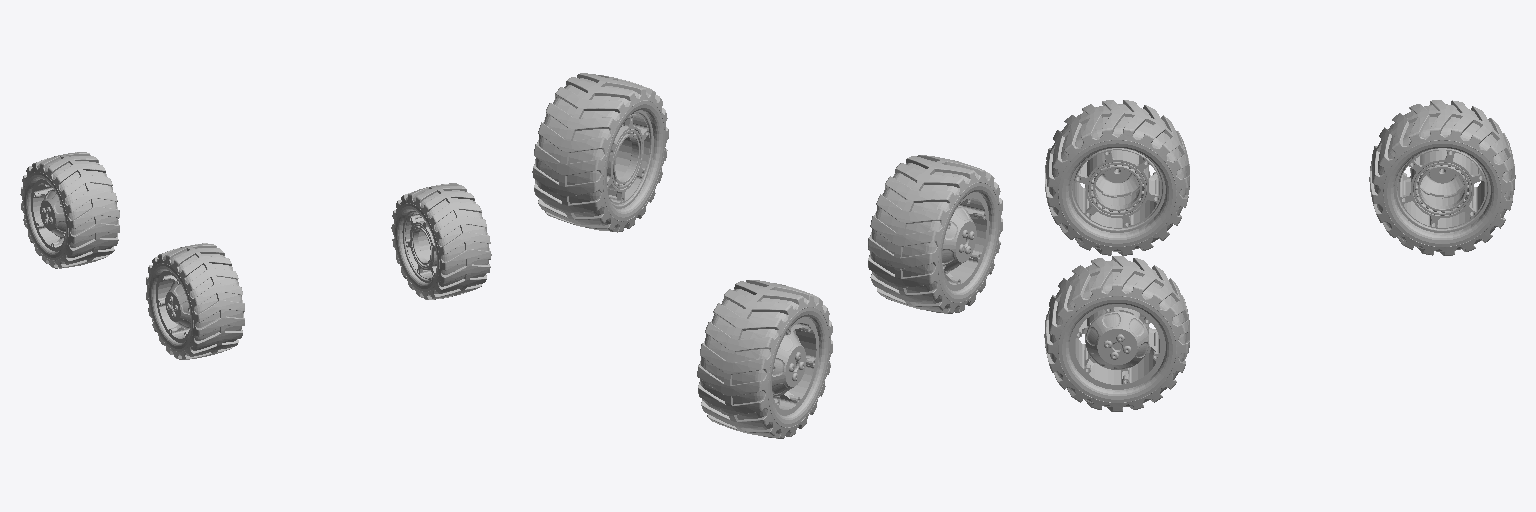
The robot description file, URDF, robot "leo_description":
<?xml version="1.0" encoding="utf-8"?>
<!-- This URDF was automatically created by SolidWorks to URDF Exporter! Originally created by [author] ([email redacted]) 
     Commit Version: 1.5.0-0-g9aa0fdb  Build Version: 1.5.7004.21443
     For more information, please see http://wiki.ros.org/sw_urdf_exporter -->
<robot
  name="leo_description">
  <link
    name="base_link">
    <inertial>
      <origin
        xyz="-0.00722738025166191 -0.0157342555876152 -0.0514386362523208"
        rpy="0 0 0" />
      <mass
        value="1.18333842438659" />
      <inertia
        ixx="0.00220253251903183"
        ixy="-3.11789791908521E-06"
        ixz="1.84372634491565E-06"
        iyy="0.00186758959999937"
        iyz="1.31248202136285E-05"
        izz="0.00326780636889239" />
    </inertial>
    <visual>
      <origin
        xyz="0 0 0"
        rpy="0 0 0" />
      <geometry>
        <mesh
          filename="package://leo_description/meshes/base_link.STL" />
      </geometry>
      <material
        name="base">
        <color
          rgba="0.752941176470588 0.752941176470588 0.752941176470588 1" />
      </material>
    </visual>
    <collision>
      <origin
        xyz="0 0 0"
        rpy="0 0 0" />
      <geometry>
        <mesh
          filename="package://leo_description/meshes/base_link.STL" />
      </geometry>
    </collision>
  </link>
  <link
    name="wheel_FL_link">
    <inertial>
      <origin
        xyz="-4.43698912840074E-06 -4.6985892357132E-06 0.00391651753147765"
        rpy="0 0 0" />
      <mass
        value="0.162812028045966" />
      <inertia
        ixx="0.00024573710371291"
        ixy="4.33843425943982E-09"
        ixz="5.46698222888878E-11"
        iyy="0.000245736463236059"
        iyz="2.76826955254868E-09"
        izz="0.000387997815645929" />
    </inertial>
    <visual>
      <origin
        xyz="0 0 0"
        rpy="0 0 0" />
      <geometry>
        <mesh
          filename="package://leo_description/meshes/wheel_FL_link.STL" />
      </geometry>
      <material
        name="wheel">
        <color
          rgba="0.752941176470588 0.752941176470588 0.752941176470588 1" />
      </material>
    </visual>
    <collision>
      <origin
        xyz="0 0 0"
        rpy="0 0 0" />
      <geometry>
        <mesh
          filename="package://leo_description/meshes/wheel_FL_link.STL" />
      </geometry>
    </collision>
  </link>
  <joint
    name="wheel_FL_joint"
    type="continuous">
    <origin
      xyz="-0.16833 0.14211 -0.13136"
      rpy="1.5708 -0.28705 1.5708" />
    <parent
      link="base_link" />
    <child
      link="wheel_FL_link" />
    <axis
      xyz="0 0 1" />
    <safety_controller
      k_velocity="0" />
  </joint>
  <link
    name="wheel_RL_link">
    <inertial>
      <origin
        xyz="-4.43698914094626E-06 -4.69858915372323E-06 0.00391651753148009"
        rpy="0 0 0" />
      <mass
        value="0.162812028045961" />
      <inertia
        ixx="0.000245737103712841"
        ixy="4.33843427093914E-09"
        ixz="5.4672421588949E-11"
        iyy="0.000245736463236041"
        iyz="2.76826957278371E-09"
        izz="0.000387997815645841" />
    </inertial>
    <visual>
      <origin
        xyz="0 0 0"
        rpy="0 0 0" />
      <geometry>
        <mesh
          filename="package://leo_description/meshes/wheel_RL_link.STL" />
      </geometry>
      <material
        name="wheel">
        <color
          rgba="0.752941176470588 0.752941176470588 0.752941176470588 1" />
      </material>
    </visual>
    <collision>
      <origin
        xyz="0 0 0"
        rpy="0 0 0" />
      <geometry>
        <mesh
          filename="package://leo_description/meshes/wheel_RL_link.STL" />
      </geometry>
    </collision>
  </link>
  <joint
    name="wheel_RL_joint"
    type="continuous">
    <origin
      xyz="-0.16833 -0.14704 -0.1312"
      rpy="1.5708 0.29774 1.5708" />
    <parent
      link="base_link" />
    <child
      link="wheel_RL_link" />
    <axis
      xyz="0 0 1" />
    <safety_controller
      k_velocity="0" />
  </joint>
  <link
    name="wheel_FR_link">
    <inertial>
      <origin
        xyz="6.01916131054425E-06 1.71290029617188E-06 0.00606817838270973"
        rpy="0 0 0" />
      <mass
        value="0.162812028045959" />
      <inertia
        ixx="0.000245740869276952"
        ixy="2.42238914491884E-09"
        ixz="4.71342130464578E-11"
        iyy="0.000245732697671881"
        iyz="2.7805675384073E-09"
        izz="0.000387997815645827" />
    </inertial>
    <visual>
      <origin
        xyz="0 0 0"
        rpy="0 0 0" />
      <geometry>
        <mesh
          filename="package://leo_description/meshes/wheel_FR_link.STL" />
      </geometry>
      <material
        name="wheel">
        <color
          rgba="0.752941176470588 0.752941176470588 0.752941176470588 1" />
      </material>
    </visual>
    <collision>
      <origin
        xyz="0 0 0"
        rpy="0 0 0" />
      <geometry>
        <mesh
          filename="package://leo_description/meshes/wheel_FR_link.STL" />
      </geometry>
    </collision>
  </link>
  <joint
    name="wheel_FR_joint"
    type="continuous">
    <origin
      xyz="0.16026 0.14211 -0.13136"
      rpy="1.5708 0.80343 1.5708" />
    <parent
      link="base_link" />
    <child
      link="wheel_FR_link" />
    <axis
      xyz="0 0 1" />
    <safety_controller
      k_velocity="0" />
  </joint>
  <link
    name="wheel_RR_link">
    <inertial>
      <origin
        xyz="6.01916147048576E-06 1.71290010028691E-06 0.006068178382686"
        rpy="0 0 0" />
      <mass
        value="0.162812028046661" />
      <inertia
        ixx="0.000245740869278297"
        ixy="2.42238971859393E-09"
        ixz="4.71354760058098E-11"
        iyy="0.000245732697672163"
        iyz="2.78056967904515E-09"
        izz="0.000387997815647396" />
    </inertial>
    <visual>
      <origin
        xyz="0 0 0"
        rpy="0 0 0" />
      <geometry>
        <mesh
          filename="package://leo_description/meshes/wheel_RR_link.STL" />
      </geometry>
      <material
        name="">
        <color
          rgba="0.752941176470588 0.752941176470588 0.752941176470588 1" />
      </material>
    </visual>
    <collision>
      <origin
        xyz="0 0 0"
        rpy="0 0 0" />
      <geometry>
        <mesh
          filename="package://leo_description/meshes/wheel_RR_link.STL" />
      </geometry>
    </collision>
  </link>
  <joint
    name="wheel_RR_joint"
    type="continuous">
    <origin
      xyz="0.16026 -0.14704 -0.1312"
      rpy="1.5708 1.3882 1.5708" />
    <parent
      link="base_link" />
    <child
      link="wheel_RR_link" />
    <axis
      xyz="0 0 1" />
    <safety_controller
      k_velocity="0" />
  </joint>
</robot>

--- What the picture shows (computed from the rendered views, not written in the file) ---
The picture shows the robot from 3 angles, left to right: view 1: azimuth 30°, elevation 25°; view 2: azimuth 150°, elevation 25°; view 3: azimuth 270°, elevation 25°; orthographic projection.
Model leo_description with 5 links and 4 joints (4 continuous), rooted at base_link, posed every joint at zero.
Visible links, largest first — view 1: wheel_FL_link, wheel_RR_link, wheel_RL_link; view 2: wheel_RR_link, wheel_FL_link, wheel_RL_link; view 3: wheel_RL_link, wheel_RR_link, wheel_FL_link.
Link boxes in pixels (bbox=[...]): wheel_FL_link: bbox=[20, 152, 119, 268]; wheel_RR_link: bbox=[391, 183, 491, 299]; wheel_RL_link: bbox=[146, 243, 244, 359]; wheel_RR_link: bbox=[532, 73, 668, 232]; wheel_FL_link: bbox=[697, 280, 832, 438]; wheel_RL_link: bbox=[868, 155, 1002, 313]; wheel_RL_link: bbox=[1045, 100, 1189, 255]; wheel_RR_link: bbox=[1044, 256, 1189, 411]; wheel_FL_link: bbox=[1369, 100, 1515, 255].
Bounding box of the posed robot: 0.3949 × 0.4191 × 0.13 m (x, y, z).
3 mesh visuals loaded from 5 distinct referenced files (3 binary STL); not drawn: 2 (reference not matched to a file when rendering).
